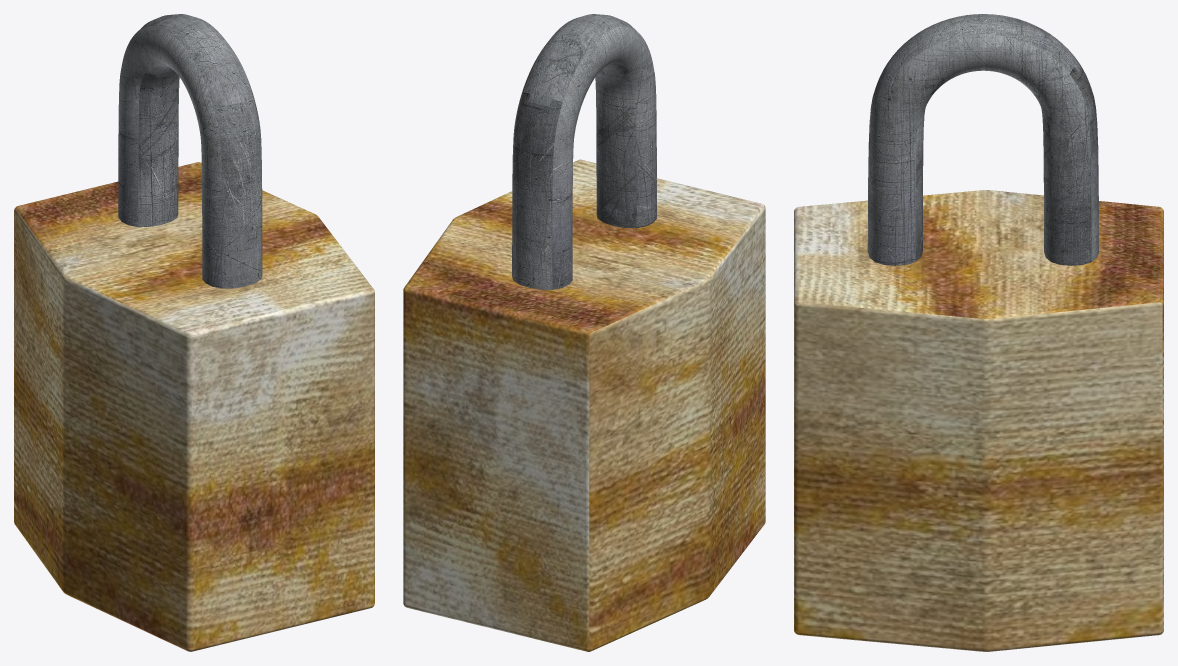
File: Lock.fbx
3 renders of one model, left to right at view 1: azimuth 30°, elevation 25°; view 2: azimuth 150°, elevation 25°; view 3: azimuth 270°, elevation 25°, orthographic. The views are drawn at different scales.
Parts seen in each view (by area): view 1: polySurface350; view 2: polySurface350; view 3: polySurface350.
Boxes of the visible parts, box(x1,y1,x2,y2) form: polySurface350: box(14, 14, 374, 651); polySurface350: box(403, 14, 765, 651); polySurface350: box(794, 14, 1163, 651).
Bounding box in the file's own units: 2.62 × 5.35 × 3.15.
2 materials, 2 textured.
